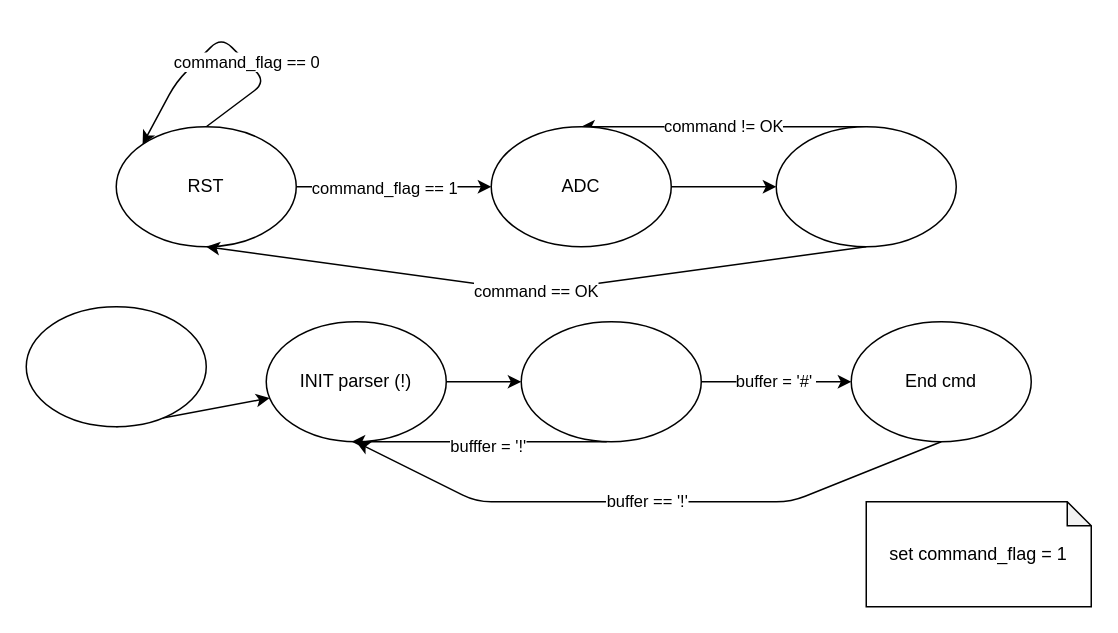
Some shapes in this 1118 by 633 pixel diagram are drawn without their labels. The shapes that lost their labels are listed below. From the top down, each one's centre as x and y in pixels, then its label:
point (865, 186): OK
point (115, 366): INIT communication
point (610, 381): Undefine cmd
